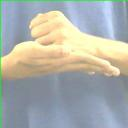hand: (0, 42, 123, 79), (28, 10, 79, 45)
